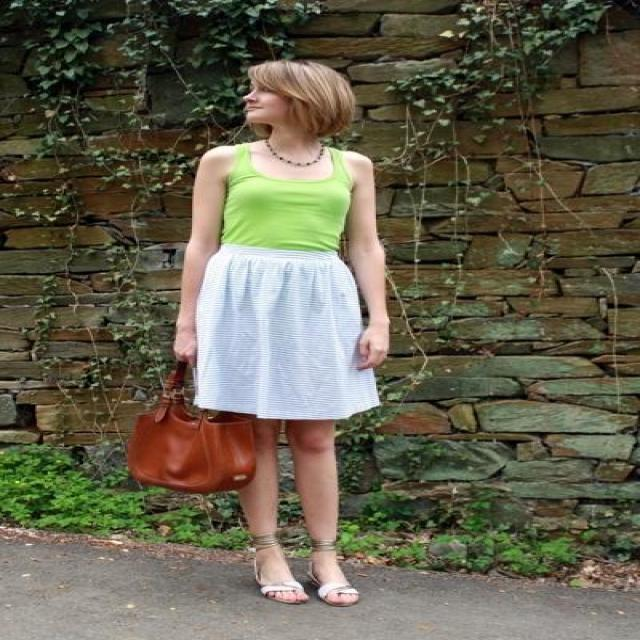bag: (125, 401, 270, 498)
shirt: (214, 168, 357, 252)
shoe: (259, 546, 357, 601)
skirt: (194, 243, 382, 418)
